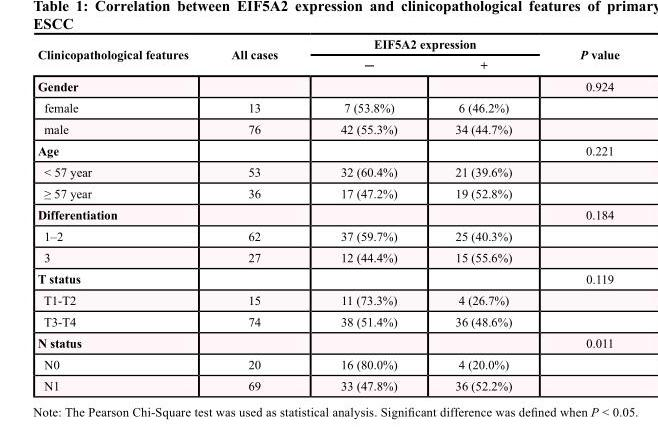table: (36, 36, 618, 392)
table column: (36, 36, 209, 392), (425, 36, 545, 392), (308, 36, 425, 392), (209, 36, 308, 392), (545, 36, 618, 392)
table column header: (36, 36, 618, 75)
table row: (36, 96, 618, 118), (36, 160, 618, 182), (36, 224, 618, 246), (36, 267, 618, 289), (36, 331, 618, 353), (36, 54, 618, 75), (36, 75, 618, 96), (36, 118, 618, 139), (36, 139, 618, 160), (36, 182, 618, 203), (36, 203, 618, 224), (36, 246, 618, 267), (36, 289, 618, 310), (36, 310, 618, 331), (36, 353, 618, 374), (36, 36, 618, 54), (36, 374, 618, 392)
table spanning cell: (36, 36, 209, 75), (308, 36, 545, 54), (209, 36, 308, 75), (545, 36, 618, 75)
